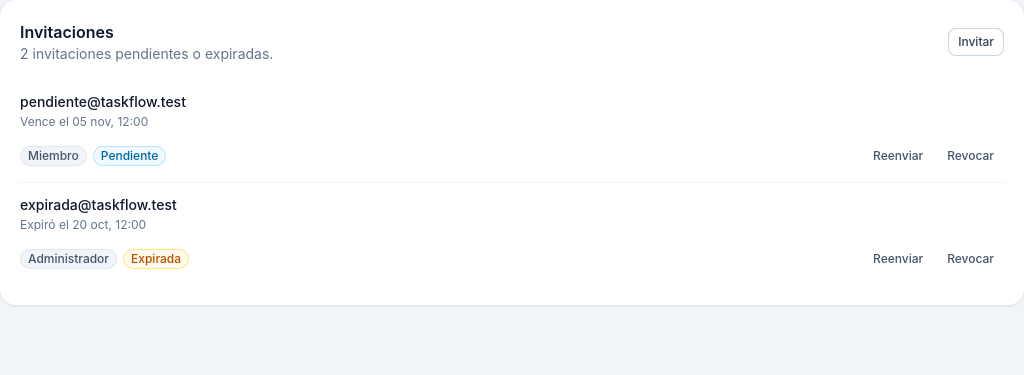
Test: InvitationsPanel › resends an invitation and updates its expiration
Click the button "Reenviar" in the row of "Miembro".
click(898, 156)  # box [863, 142, 933, 170]
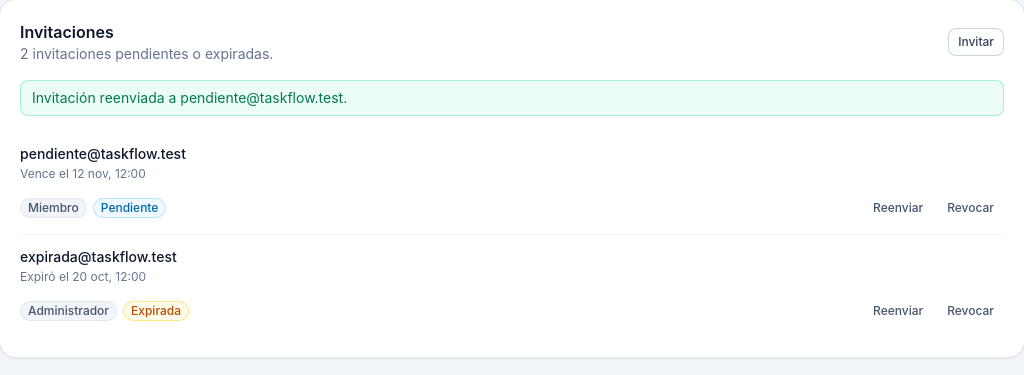
expect the text "Invitación reenviada a pendiente@taskflow.test." is shown: met, box [20, 80, 1004, 116]
